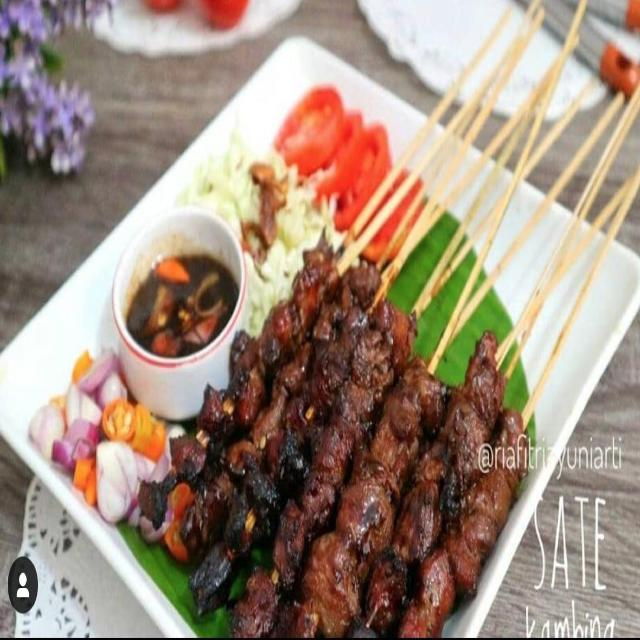Sate: (147, 1, 634, 631)
